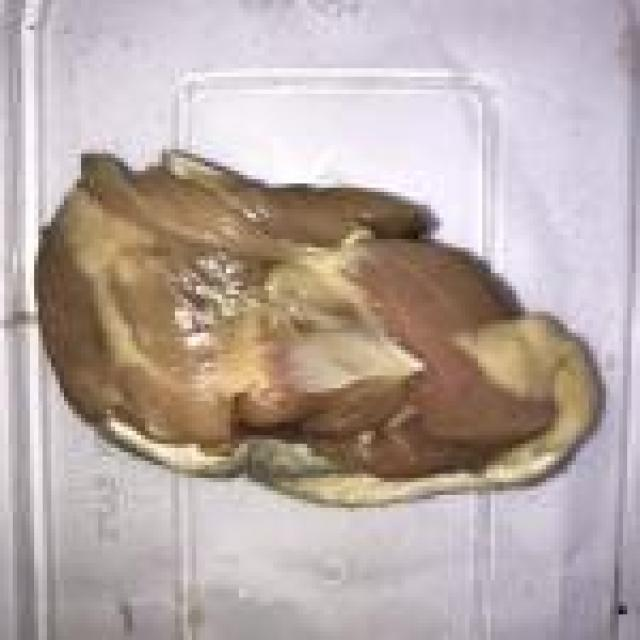breast: (40, 115, 595, 541)
